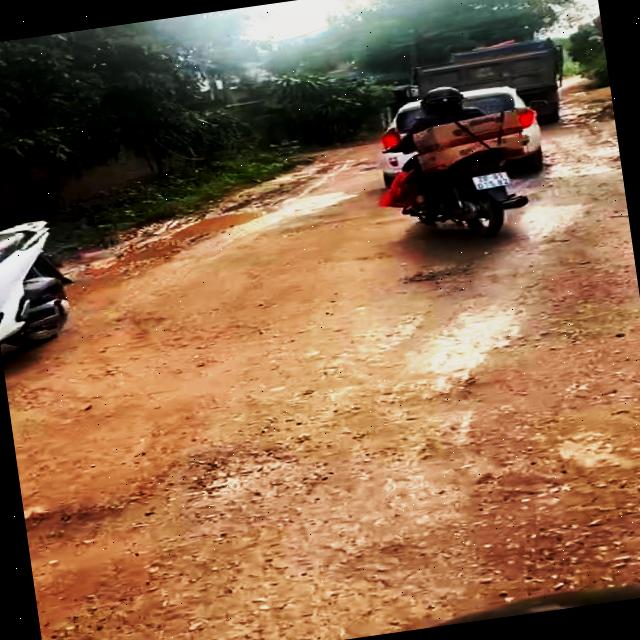pothole: (19, 434, 332, 576), (101, 202, 282, 274)
